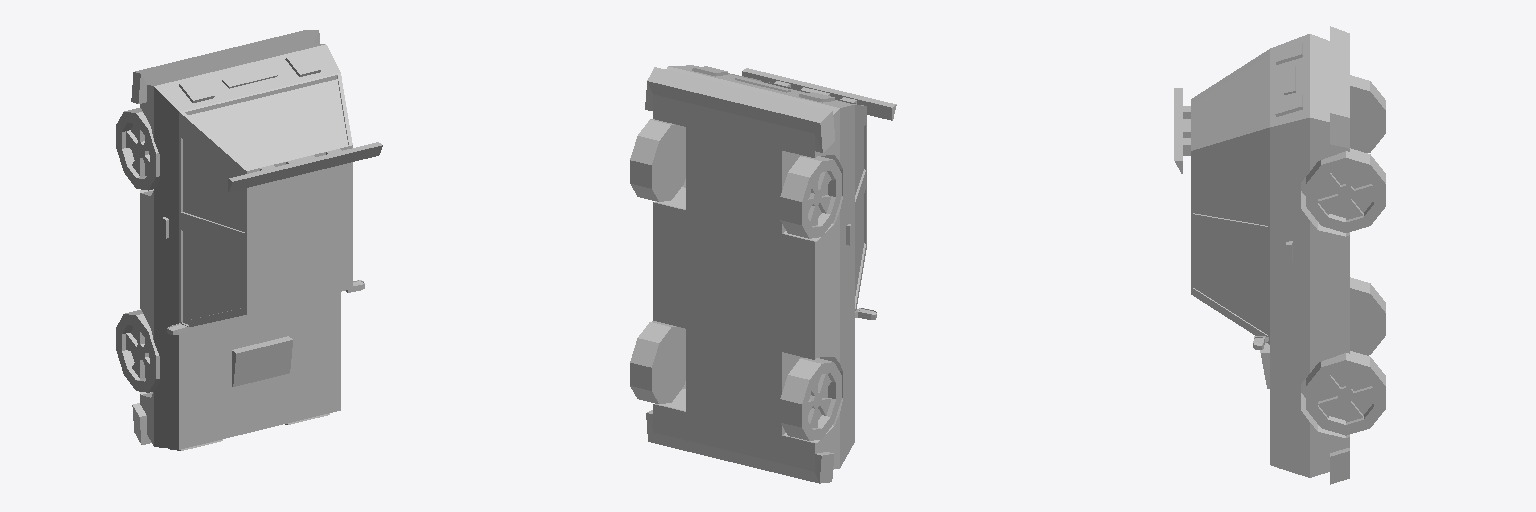
The model's file is car1.obj.
The picture shows the model from 3 angles: view 1: azimuth 30°, elevation 25°; view 2: azimuth 150°, elevation 25°; view 3: azimuth 270°, elevation 25°; orthographic projection.
Parts seen in each view (by area): view 1: obj1, obj5, obj4; view 2: obj1, obj5, obj4, obj2, obj3; view 3: obj1, obj2, obj3, obj4, obj5.
Part boxes in pixels (bbox=[...]): obj1: bbox=[131, 30, 382, 450]; obj5: bbox=[116, 310, 159, 392]; obj4: bbox=[116, 108, 159, 190]; obj1: bbox=[645, 65, 896, 483]; obj5: bbox=[780, 358, 841, 440]; obj4: bbox=[780, 156, 841, 238]; obj2: bbox=[630, 321, 685, 403]; obj3: bbox=[630, 119, 685, 201]; obj1: bbox=[1174, 26, 1349, 484]; obj2: bbox=[1306, 351, 1385, 435]; obj3: bbox=[1306, 148, 1385, 232]; obj4: bbox=[1350, 75, 1385, 152]; obj5: bbox=[1350, 277, 1385, 355].
Size of the model in its own units: 6.62 by 11.96 by 6.16.